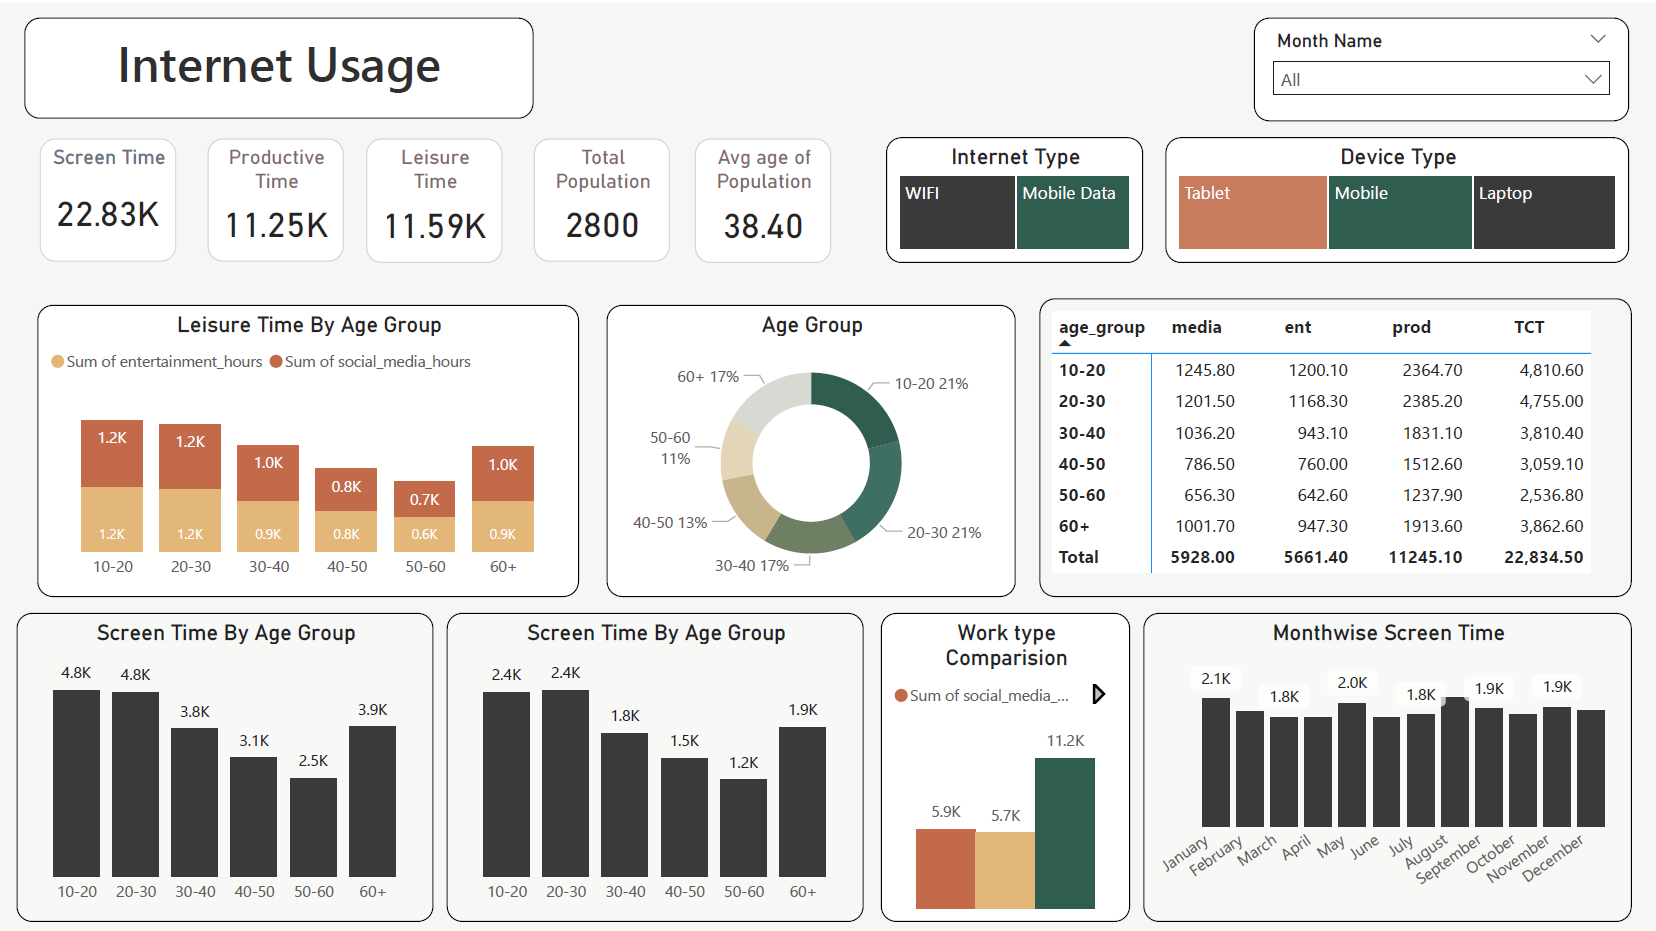

The page's visual inventory and layout, read from the dashboard file:
{"tool":"powerbi","page":{"name":"Page 1","canvas":[1280,720],"ordinal":0},"visuals":[{"type":"textbox","box":[19.7,10.6,392.2,78.7],"z":0},{"type":"columnChart","title":"Screen Time By Age Group","fields":{"Category":["internet_usage int_usage.age_group"],"Y":["Sum(internet_usage int_usage.total_screen_time)"]},"box":[13.6,469.4,321,237.7],"z":1000},{"type":"lineClusteredColumnComboChart","title":"Monthwise Screen Time","fields":{"Category":["internet_usage int_usage.Month Name"],"Y":["Sum(internet_usage int_usage.total_screen_time)"]},"box":[881.3,469.4,375.5,237.7],"z":2000},{"type":"treemap","title":"Device Type","fields":{"Group":["internet_usage int_usage.primary_device"],"Values":["Sum(internet_usage int_usage.total_screen_time)"]},"box":[897.9,103,357.4,96.9],"z":3000},{"type":"card","title":"Screen Time","fields":{"Values":["Sum(internet_usage int_usage.total_screen_time)"]},"box":[31.8,104.5,105,95],"z":4000},{"type":"card","title":"Leisure Time","fields":{"Values":["Sum(internet_usage int_usage.Leisure Time)"]},"box":[283.2,104.5,104.5,95.4],"z":5000},{"type":"card","title":"Productive Time","fields":{"Values":["Sum(internet_usage int_usage.work_or_study_hours)"]},"box":[160.5,104.5,105,95],"z":6000},{"type":"card","title":"Total Population","fields":{"Values":["CountNonNull(internet_usage int_usage.user_id)"]},"box":[411.9,104.5,105,95],"z":7000},{"type":"card","title":"Avg age of Population","fields":{"Values":["Avg(internet_usage int_usage.age)"]},"box":[536,104.5,104.5,95.4],"z":8000},{"type":"slicer","fields":{"Values":["internet_usage int_usage.Month Name"]},"box":[966.1,10.6,289.2,80.3],"z":9000},{"type":"donutChart","title":"Age Group ","fields":{"Category":["internet_usage int_usage.age_group"],"Y":["Sum(internet_usage int_usage.total_screen_time)"]},"box":[467.9,231.7,315,225.6],"z":10000},{"type":"treemap","title":"Internet Type","fields":{"Group":["internet_usage int_usage.internet_type"],"Values":["Sum(internet_usage int_usage.total_screen_time)"]},"box":[682.9,103,198.4,96.9],"z":11000},{"type":"pivotTable","fields":{"Rows":["internet_usage int_usage.age_group"],"Values":["Sum(internet_usage int_usage.social_media_hours)","Sum(internet_usage int_usage.entertainment_hours)","Sum(internet_usage int_usage.work_or_study_hours)","Sum(internet_usage int_usage.total_screen_time)"]},"box":[801,227.1,455.8,230.2],"z":12000},{"type":"columnChart","title":"Leisure Time By Age Group","fields":{"Category":["internet_usage int_usage.age_group"],"Y":["Sum(internet_usage int_usage.entertainment_hours)","Sum(internet_usage int_usage.social_media_hours)"]},"box":[30.3,231.7,416.4,225.6],"z":13000},{"type":"columnChart","title":"Screen Time By Age Group","fields":{"Category":["internet_usage int_usage.age_group"],"Y":["Sum(internet_usage int_usage.work_or_study_hours)"]},"box":[345.2,469.4,321,237.7],"z":14000},{"type":"clusteredColumnChart","title":"Work type Comparision","fields":{"Y":["Sum(internet_usage int_usage.social_media_hours)","Sum(internet_usage int_usage.entertainment_hours)","Sum(internet_usage int_usage.work_or_study_hours)"]},"box":[679,469.4,192.3,237.7],"z":15000}]}

Visuals, with their boxes in screenshot pixels (x1, y1, x2, y2), scaled from the page's 1280x720 canvas onto the 1656x931 screenshot:
textbox: (left=25, top=14, right=533, bottom=115)
"Screen Time By Age Group" columnChart: (left=18, top=607, right=433, bottom=914)
"Monthwise Screen Time" lineClusteredColumnComboChart: (left=1140, top=607, right=1626, bottom=914)
"Device Type" treemap: (left=1162, top=133, right=1624, bottom=258)
"Screen Time" card: (left=41, top=135, right=177, bottom=258)
"Leisure Time" card: (left=366, top=135, right=502, bottom=258)
"Productive Time" card: (left=208, top=135, right=343, bottom=258)
"Total Population" card: (left=533, top=135, right=669, bottom=258)
"Avg age of Population" card: (left=693, top=135, right=829, bottom=258)
slicer - internet_usage int_usage.Month Name: (left=1250, top=14, right=1624, bottom=118)
"Age Group " donutChart: (left=605, top=300, right=1013, bottom=591)
"Internet Type" treemap: (left=884, top=133, right=1140, bottom=258)
pivotTable - internet_usage int_usage.age_group x Sum(internet_usage int_usage.social_media_hours): (left=1036, top=294, right=1626, bottom=591)
"Leisure Time By Age Group" columnChart: (left=39, top=300, right=578, bottom=591)
"Screen Time By Age Group" columnChart: (left=447, top=607, right=862, bottom=914)
"Work type Comparision" clusteredColumnChart: (left=878, top=607, right=1127, bottom=914)
